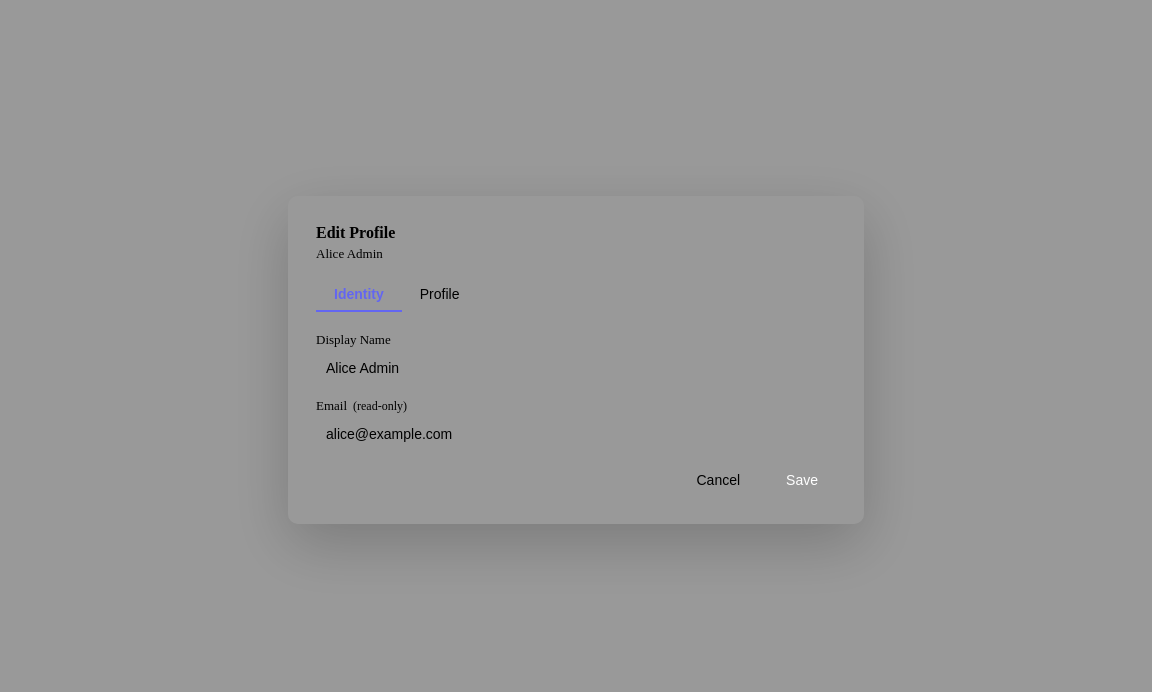
Test: EditProfileModal — UPS field pre-population › pre-populates bio from upsProfile (Req 5.1)
What coordinates should you click on to do the following:
click the tab "Profile"
I would click on:
 (440, 295)
Its box is [402, 278, 478, 312].
(page scrolled)
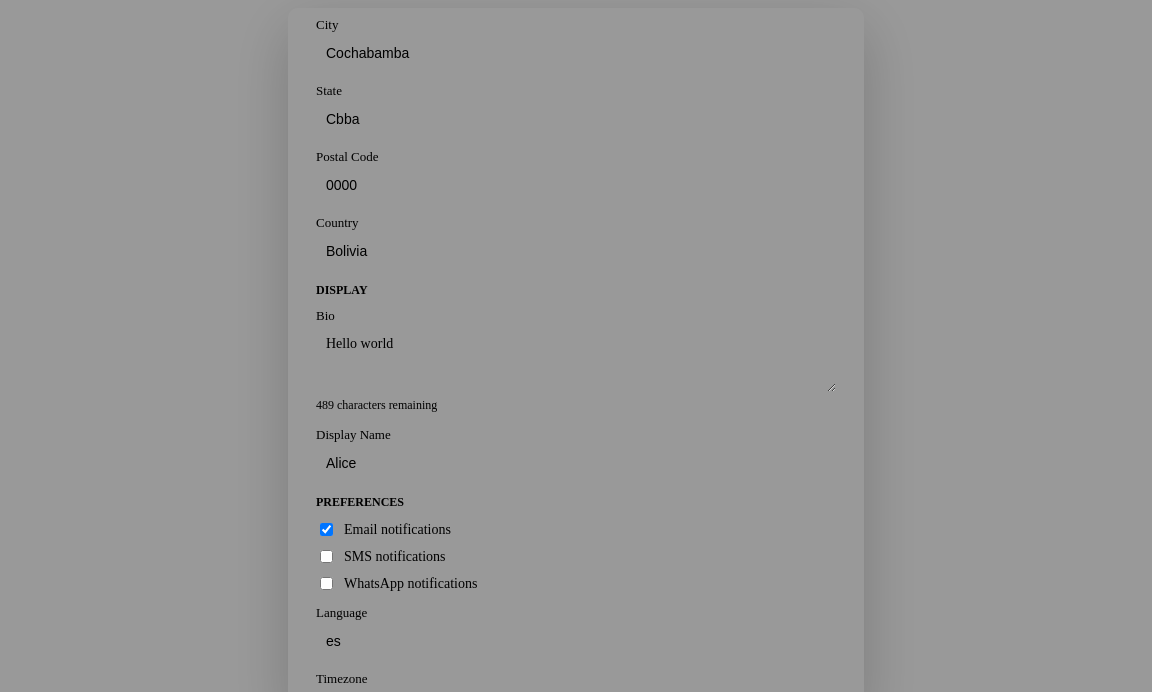
Expected: the text box labelled "Bio" holds "Hello world", [316, 328, 836, 392]
